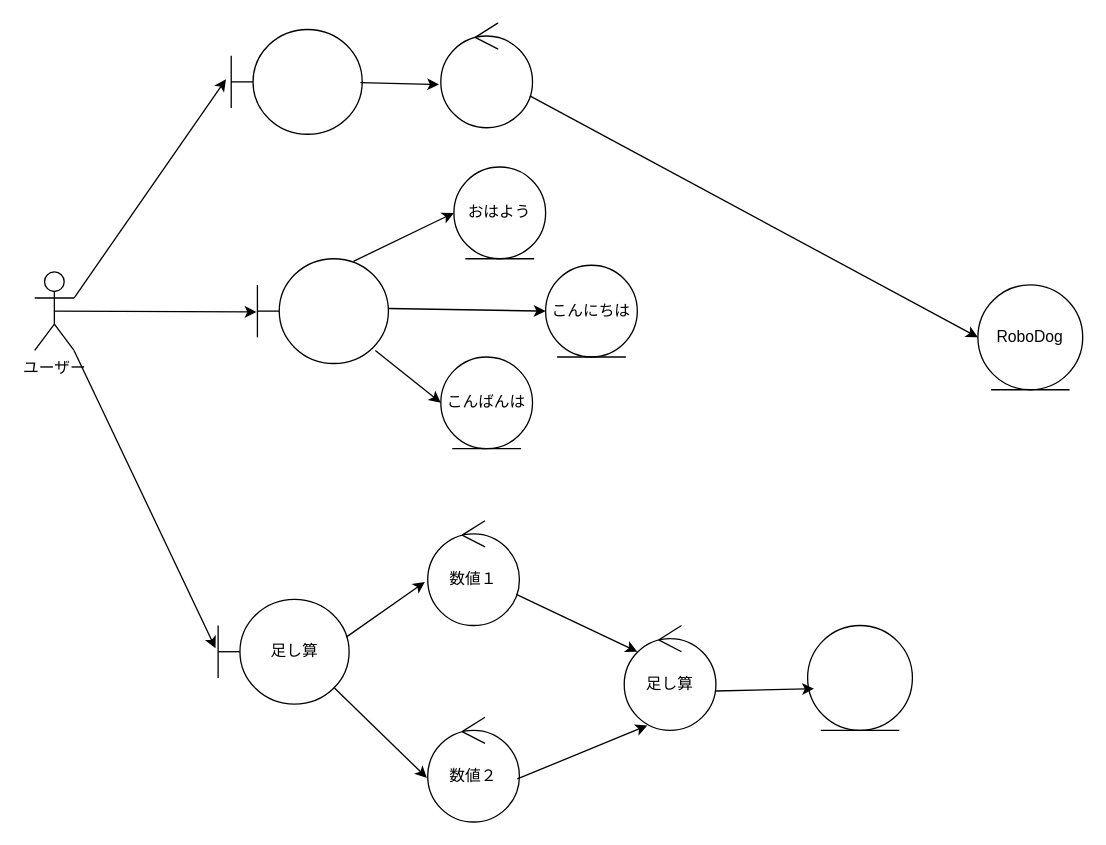
The diagram is 1106 pixels wide and 845 high, and some of its shapes have lost their labels. The box of each missing label's shape, as (x1, y1, x2, y2) in pixels:
2つの整数の足し算: (806, 624, 912, 730)
名前変更: (230, 28, 362, 134)
変更: (440, 22, 533, 128)
挨拶: (256, 257, 388, 364)
